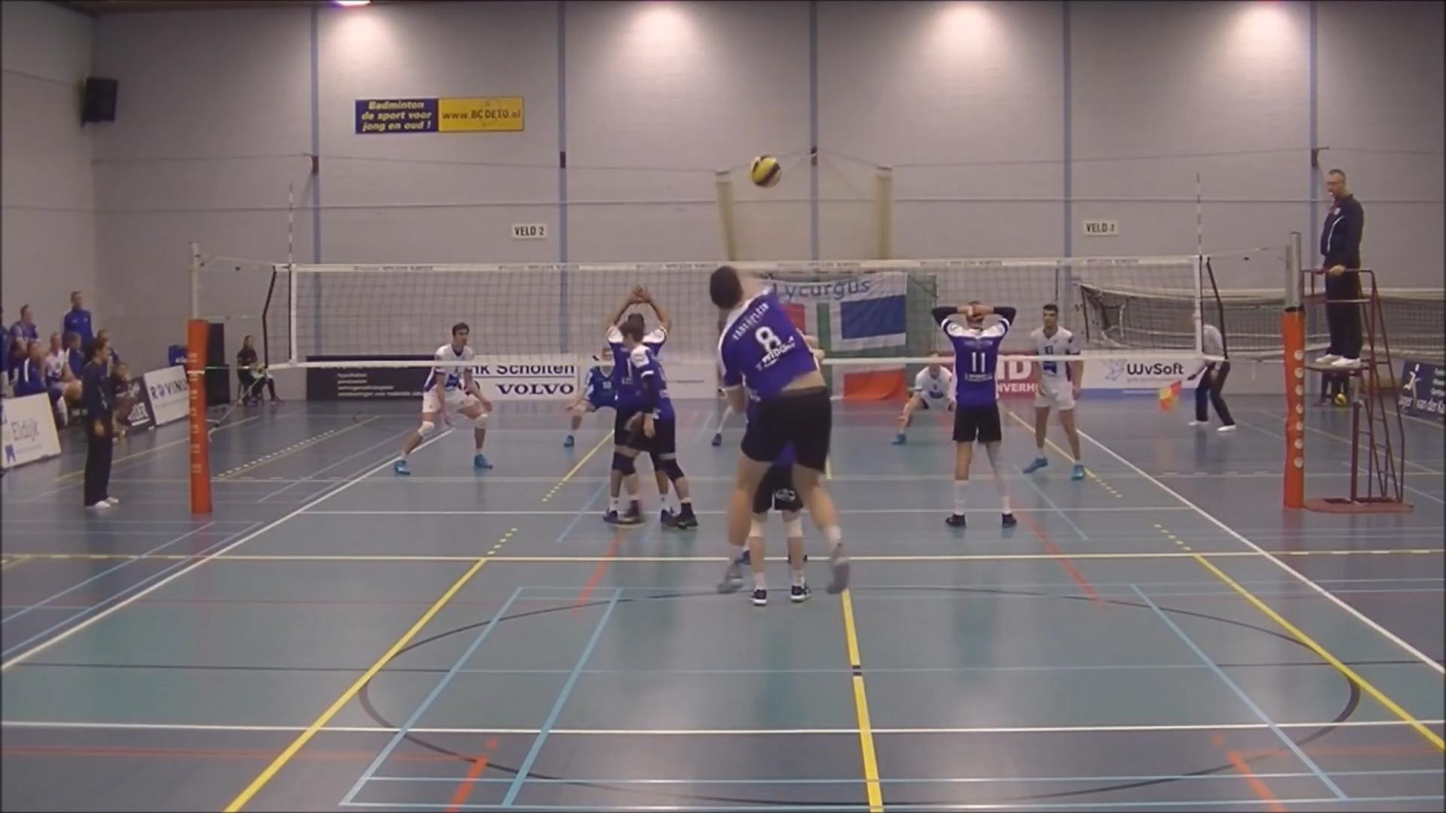Player: (932, 301, 1016, 528), (614, 320, 697, 528), (604, 287, 670, 522), (393, 323, 491, 474), (723, 445, 810, 606), (1023, 303, 1085, 480), (893, 351, 953, 444), (1187, 324, 1236, 432), (563, 347, 615, 447), (711, 398, 734, 446), (711, 400, 734, 446)
Serve: (698, 261, 840, 605)
ball: (754, 157, 778, 182)
